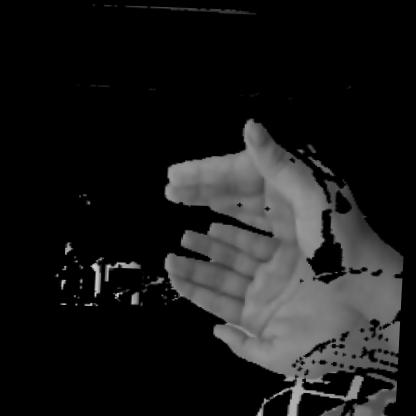dua: (141, 90, 412, 415)
